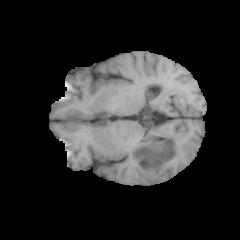glioma: (128, 135, 181, 175)
